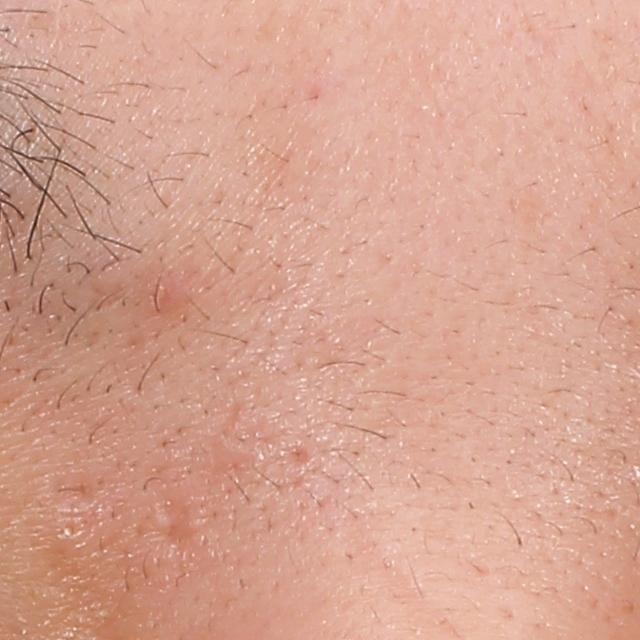atrophic_scar: (132, 484, 204, 553), (43, 454, 108, 509)
